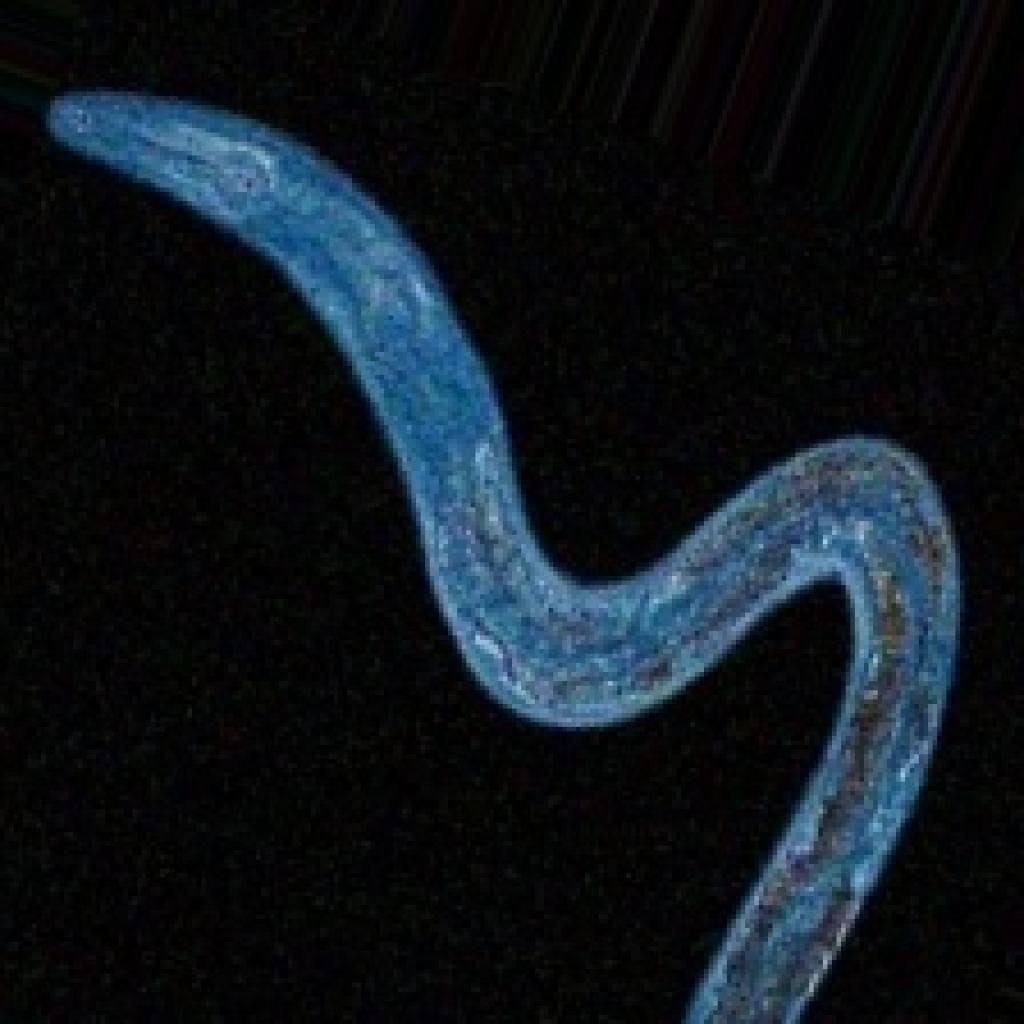Nematode: (36, 68, 983, 1020)
